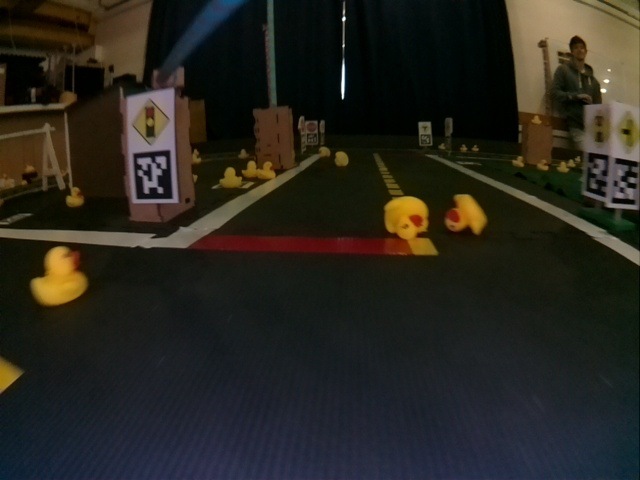Duckie: (31, 246, 88, 305), (385, 195, 428, 239), (446, 194, 483, 236), (221, 171, 242, 189), (66, 189, 84, 207), (260, 162, 276, 180), (334, 151, 349, 167), (244, 161, 257, 177), (321, 146, 329, 157)
Intersection sign: (616, 110, 637, 152)
QR code: (133, 157, 174, 201), (609, 160, 639, 206), (586, 155, 606, 199)
Signal sign: (129, 97, 169, 145), (587, 108, 612, 148)
